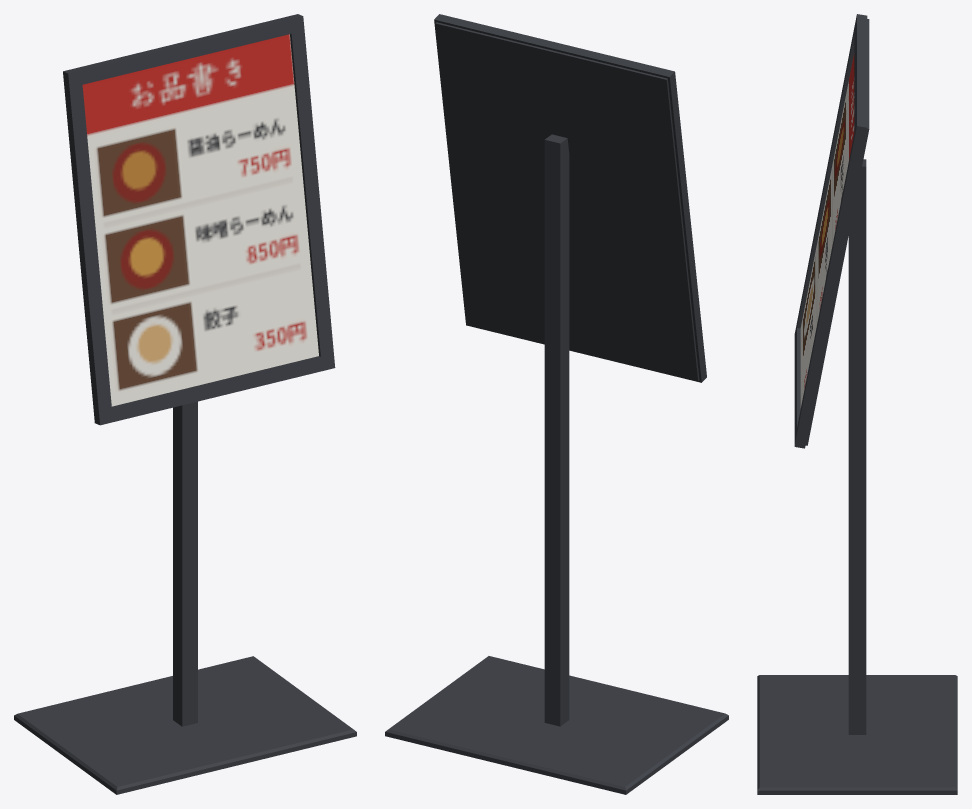
Rendered from SM_Street_MenuStand_Black_Ramen_01.fbx.
3 renders of one model, left to right at view 1: azimuth 30°, elevation 25°; view 2: azimuth 150°, elevation 25°; view 3: azimuth 270°, elevation 25°, orthographic. The views are drawn at different scales.
Parts seen in each view (by area): view 1: SM_Street_MenuStand_Black_Ramen_01; view 2: SM_Street_MenuStand_Black_Ramen_01; view 3: SM_Street_MenuStand_Black_Ramen_01.
Part boxes in pixels (x1,y1,x2,y2): SM_Street_MenuStand_Black_Ramen_01: [14, 14, 356, 794]; SM_Street_MenuStand_Black_Ramen_01: [385, 14, 728, 794]; SM_Street_MenuStand_Black_Ramen_01: [757, 14, 957, 794].
Bounding box in the file's own units: 0.46 × 1.25 × 0.34.
1 material, 1 textured.
